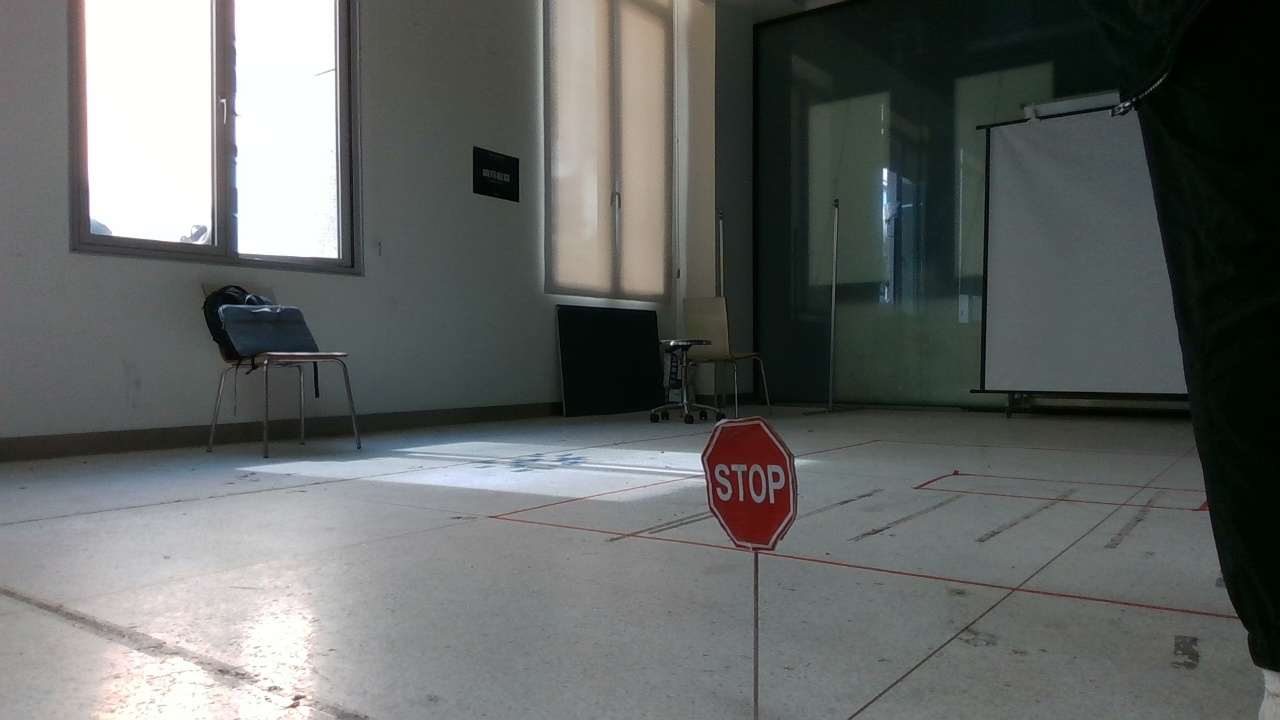stop_sign: (682, 402, 822, 558)
